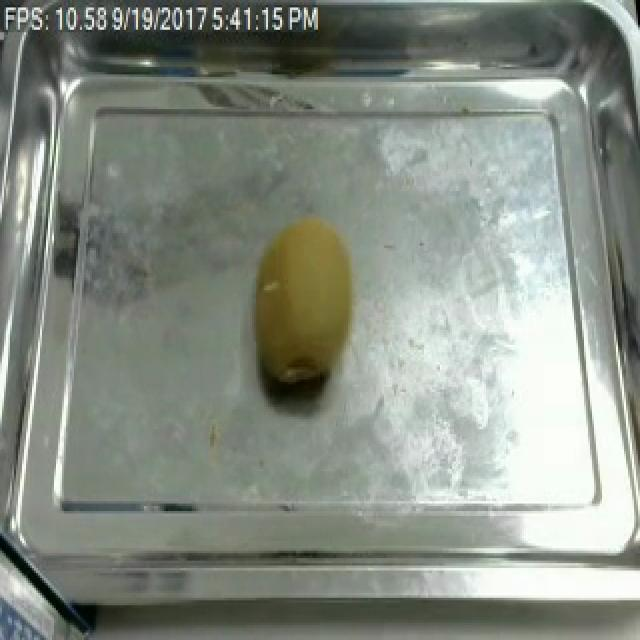Fruit: (244, 206, 366, 397)
